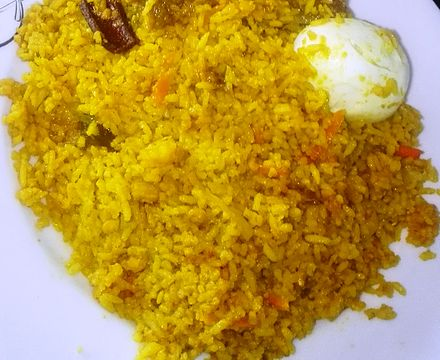khichuri: (15, 2, 440, 357)
